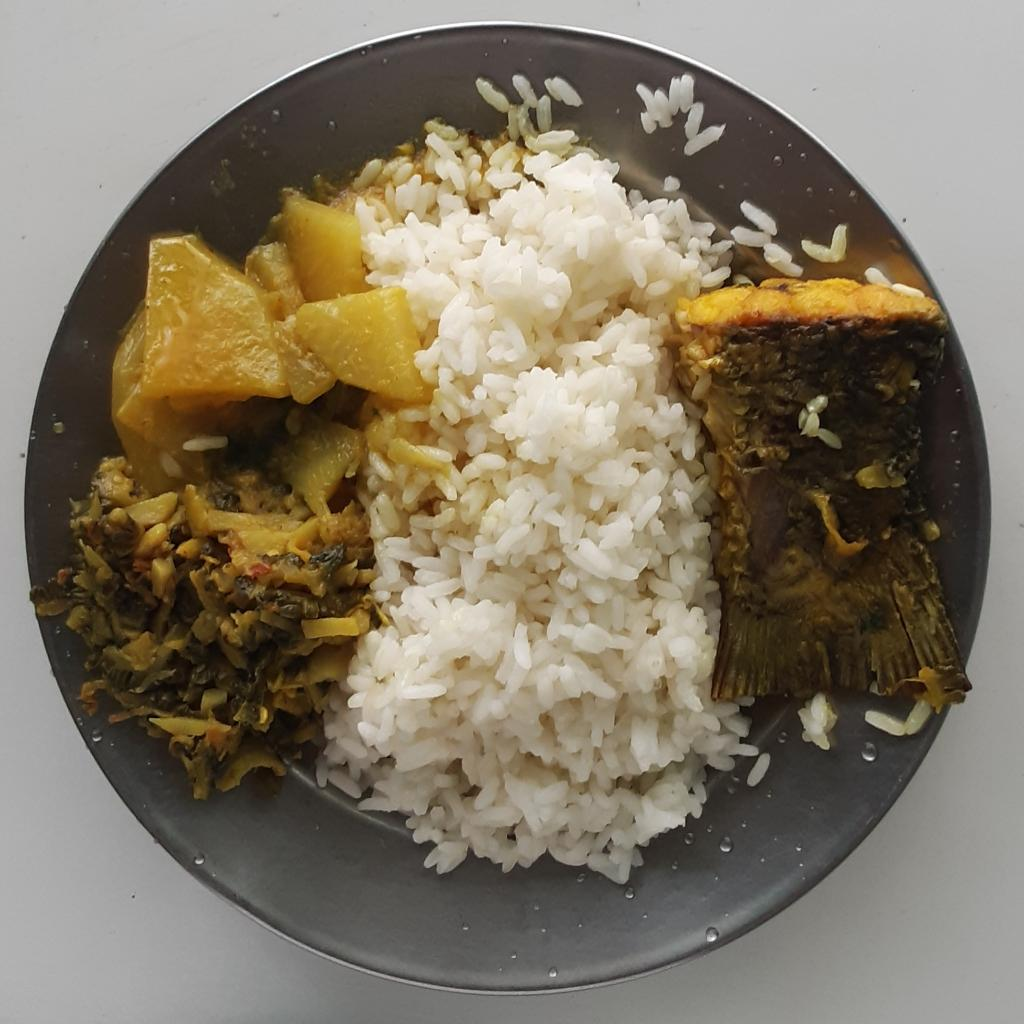fish: (667, 273, 975, 706)
korola-vaji: (30, 451, 370, 805)
papaya: (105, 172, 428, 519)
rice: (306, 70, 779, 890)
